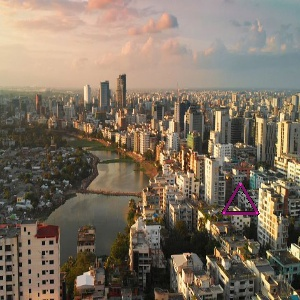triangle: (218, 179, 261, 219)
